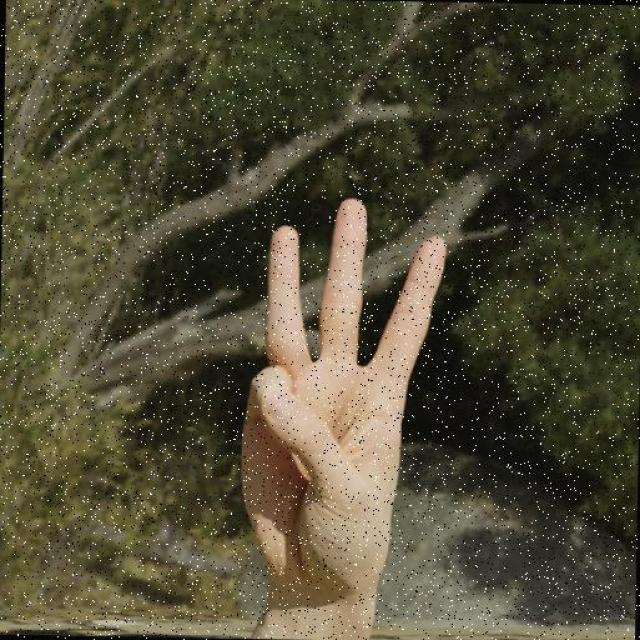W: (230, 195, 452, 640)
